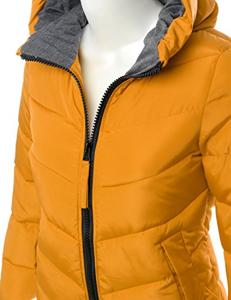C_jacket: (1, 3, 230, 296)
